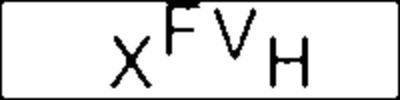F: (162, 1, 205, 59)
H: (266, 34, 315, 92)
V: (211, 6, 260, 61)
X: (106, 33, 160, 91)
